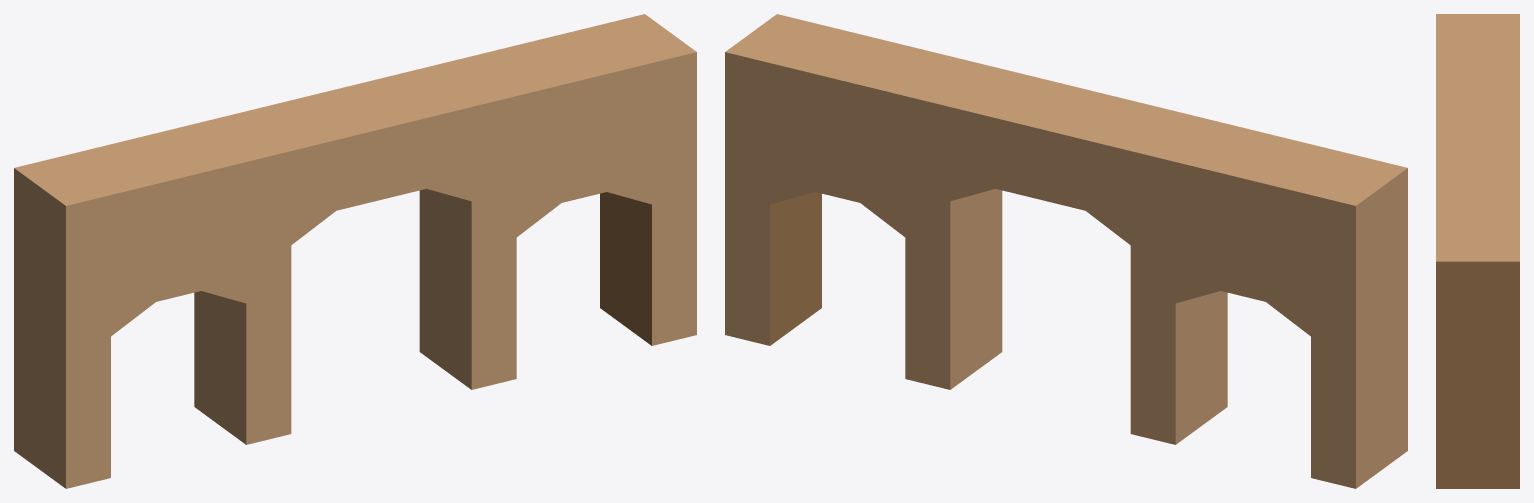
The model's file is puerta_estepa.glb.
3 renders of one model, left to right at view 1: azimuth 30°, elevation 25°; view 2: azimuth 150°, elevation 25°; view 3: azimuth 270°, elevation 25°, orthographic. The views are drawn at different scales.
Visible parts, largest first — view 1: Plane; view 2: Plane; view 3: Plane.
Boxes of the visible parts, bbox=[...] form: Plane: bbox=[14, 14, 696, 488]; Plane: bbox=[725, 14, 1407, 488]; Plane: bbox=[1436, 14, 1519, 488].
Size of what is drawn, in the model's own units: 14 by 6 by 2.
